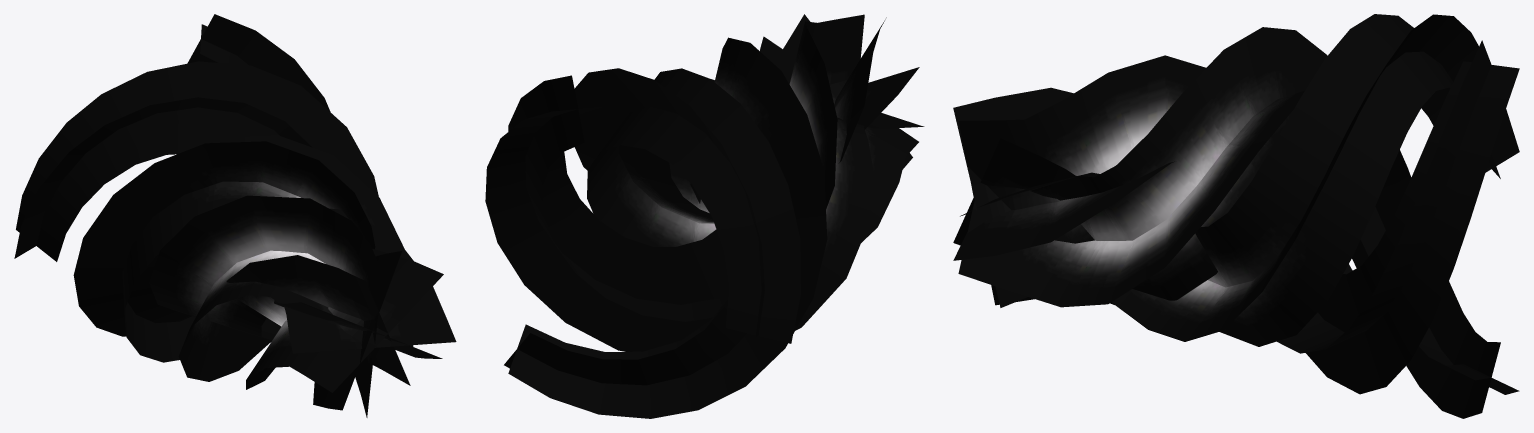
File: Twist_cross_plane_2.FBX
The picture shows the model from 3 angles, left to right: view 1: azimuth 30°, elevation 25°; view 2: azimuth 150°, elevation 25°; view 3: azimuth 270°, elevation 25°; orthographic projection. The views are drawn at different scales.
Visible parts, largest first — view 1: Plane04; view 2: Plane04; view 3: Plane04.
Boxes of the visible parts, x1,y1,x2,y2 form: Plane04: [14, 14, 456, 417]; Plane04: [485, 14, 924, 418]; Plane04: [953, 14, 1519, 418].
Bounding box in the file's own units: 7.22 × 7.34 × 10.01.
